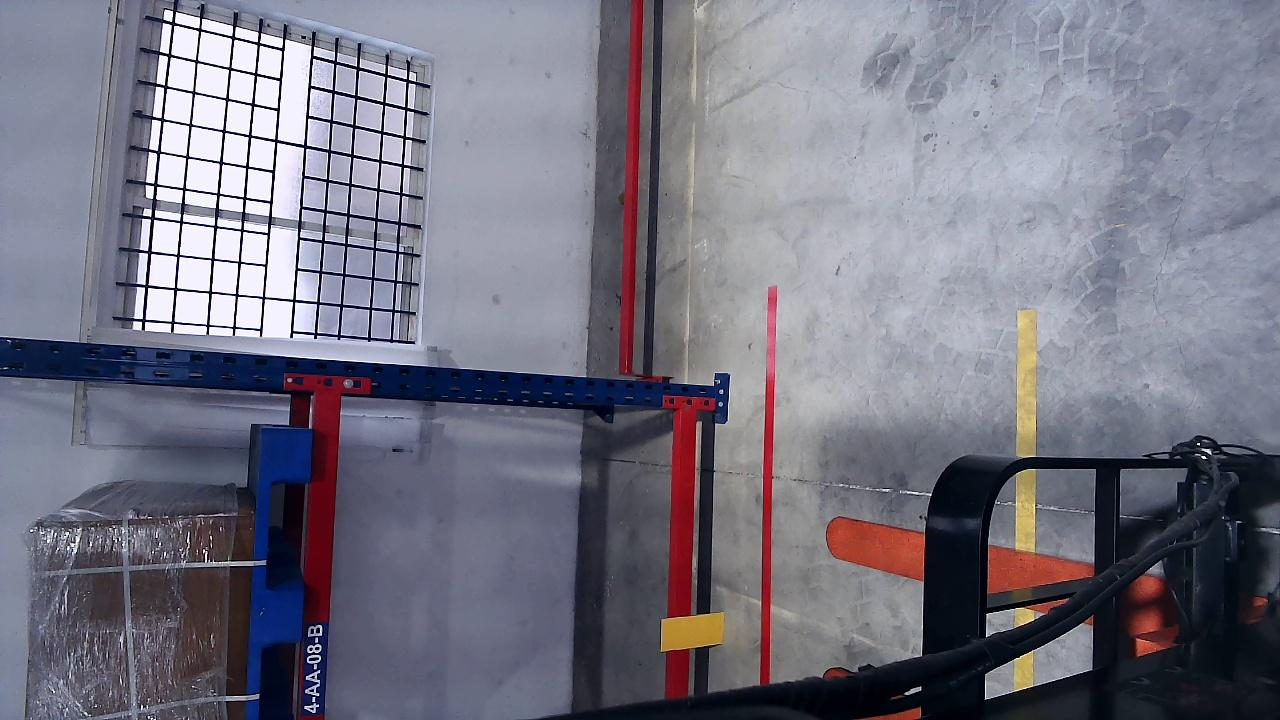h_rack: (309, 395, 328, 719), (673, 410, 693, 700)
orange_strip: (661, 612, 725, 651)
red_line: (763, 285, 775, 683)
small_pallet: (252, 425, 316, 713)
yellow_line: (1014, 309, 1039, 693)
